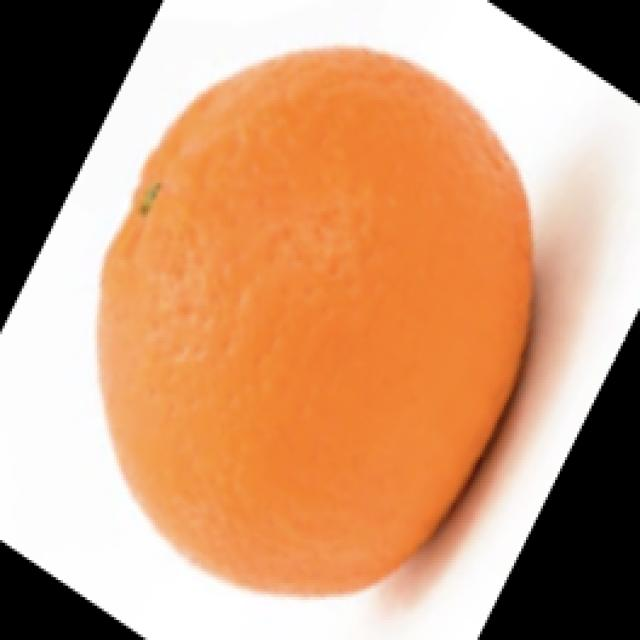fresh: (66, 41, 564, 605)
